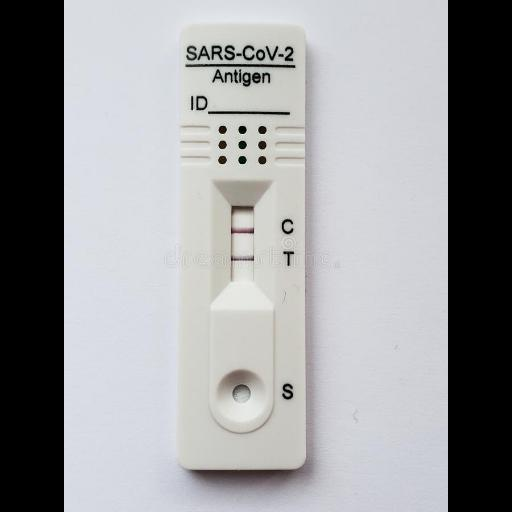Pos: (177, 26, 305, 468)
